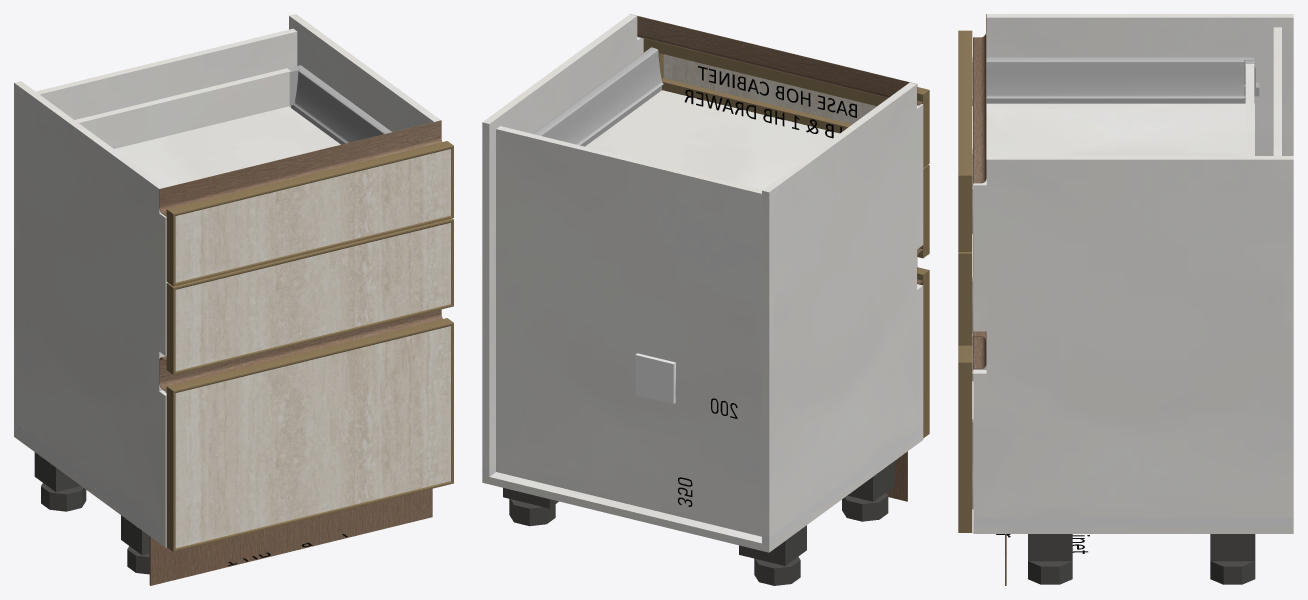
Rendered from BC-HO-CJ-ST-2LB-1HB-XXX-600-720-560-15.glb.
The picture shows the model from 3 angles, left to right: view 1: azimuth 30°, elevation 25°; view 2: azimuth 150°, elevation 25°; view 3: azimuth 270°, elevation 25°; orthographic projection. The views are drawn at different scales.
Visible parts, largest first — view 1: TP_node_6, Object_node, Object_node_1, Object_node_3, TP, TP_node_3, Object_node_93, TP_node_4, ExtrSplGeo, TP_node_7, Shell_0_0_node_0, ExtrSplGeo_node (+14 smaller); view 2: TP, TP_node_6, TP_node_3, TP_node_7, ExtrSplGeo, TP_node_5, Shell_0_0_node_0, Object_node_3, Extrusion_node_6, Extrusion_node_8, 2D text, casing (+9 smaller); view 3: TP_node_7, TP_node_6, TP_node_3, Shell_1_0_node_0, Object_node_75, TP_node_5, Extrusion_node, Extrusion_node_6, ExtrSplGeo, Extrusion_node_3, Plate_node, Plate_node_1 (+6 smaller).
Part boxes in pixels (left/top/right/bottom): TP_node_6: left=14, top=81, right=167, bottom=532; Object_node: left=175, top=326, right=450, bottom=547; Object_node_1: left=175, top=222, right=450, bottom=370; Object_node_3: left=175, top=149, right=450, bottom=282; TP: left=36, top=28, right=297, bottom=148; TP_node_3: left=114, top=106, right=340, bottom=187; Object_node_93: left=149, top=488, right=432, bottom=585; TP_node_4: left=75, top=68, right=291, bottom=148; ExtrSplGeo: left=159, top=120, right=442, bottom=216; TP_node_7: left=289, top=14, right=440, bottom=131; Shell_0_0_node_0: left=291, top=65, right=391, bottom=144; ExtrSplGeo_node: left=159, top=309, right=442, bottom=392; TP: left=496, top=126, right=762, bottom=536; TP_node_6: left=762, top=82, right=923, bottom=536; TP_node_3: left=585, top=90, right=839, bottom=189; TP_node_7: left=482, top=14, right=643, bottom=468; ExtrSplGeo: left=630, top=14, right=923, bottom=105; TP_node_5: left=482, top=433, right=923, bottom=552; Shell_0_0_node_0: left=533, top=47, right=663, bottom=146; Object_node_3: left=663, top=54, right=876, bottom=124; Extrusion_node_6: left=649, top=40, right=928, bottom=105; Extrusion_node_8: left=661, top=78, right=851, bottom=133; 2D text: left=684, top=66, right=856, bottom=138; casing: left=635, top=353, right=675, bottom=403; TP_node_7: left=973, top=156, right=1293, bottom=517; TP_node_6: left=986, top=14, right=1293, bottom=155; TP_node_3: left=985, top=103, right=1254, bottom=181; Shell_1_0_node_0: left=972, top=57, right=1254, bottom=105; Object_node_75: left=973, top=518, right=1293, bottom=526; TP_node_5: left=973, top=526, right=1293, bottom=533; Extrusion_node: left=958, top=362, right=972, bottom=532; Extrusion_node_6: left=958, top=30, right=972, bottom=175; ExtrSplGeo: left=973, top=14, right=986, bottom=183; Extrusion_node_3: left=958, top=253, right=972, bottom=345; Plate_node: left=1210, top=534, right=1255, bottom=561; Plate_node_1: left=1028, top=534, right=1072, bottom=561.
Size of what is drawn, in the model's own units: 0.6 by 0.82 by 0.5842.
Materials: 11 (3 with a texture image).
